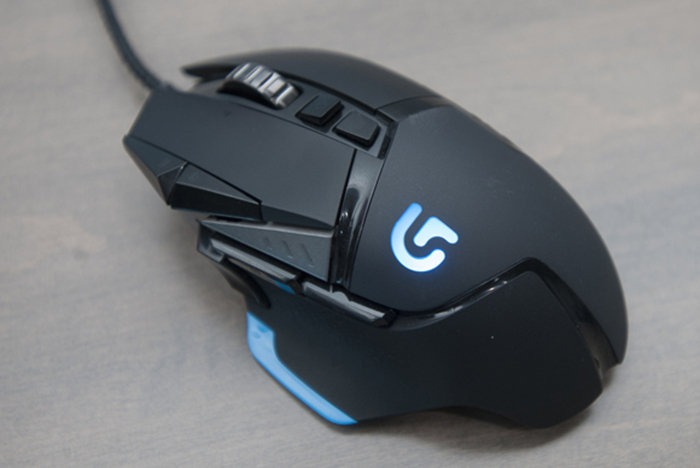mouse: (113, 36, 641, 449)
